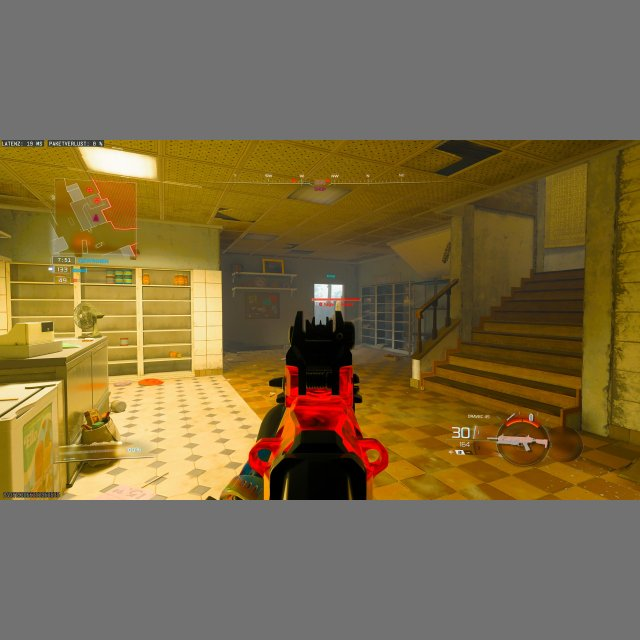player: (73, 300, 104, 339)
